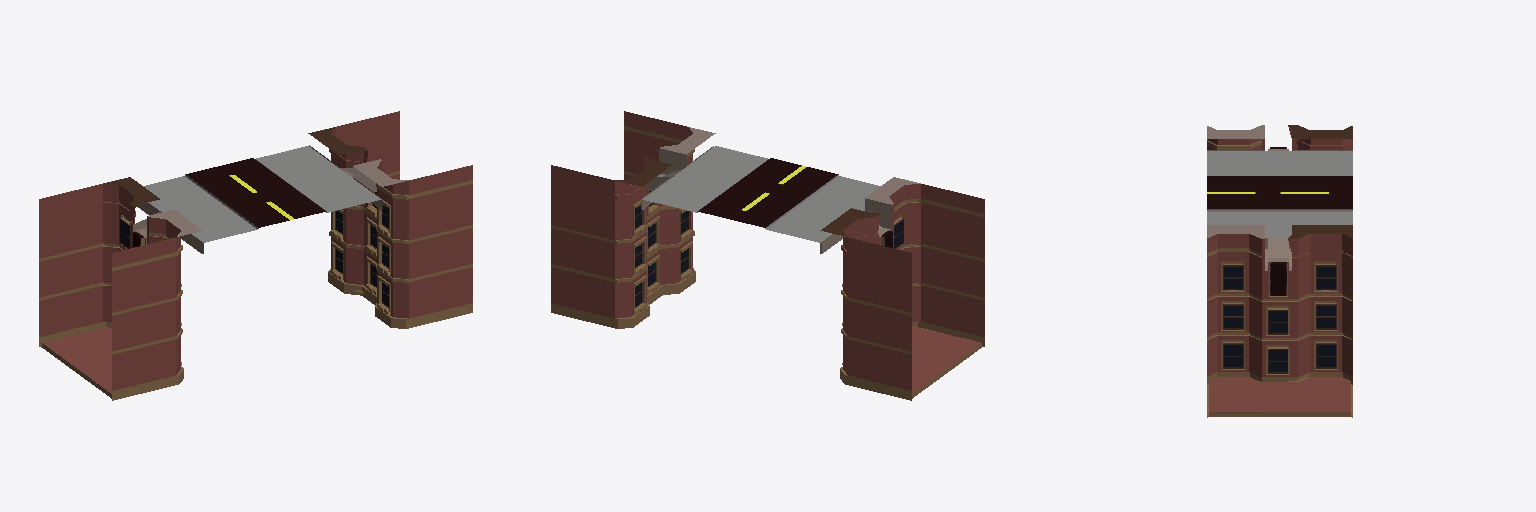
3 views of the same model, side by side, from view 1: azimuth 30°, elevation 25°; view 2: azimuth 150°, elevation 25°; view 3: azimuth 270°, elevation 25° (orthographic).
Visible parts, largest first — view 1: Chunk.001_Plane; view 2: Chunk.001_Plane; view 3: Chunk.001_Plane.
Boxes of the visible parts, <box> form: Chunk.001_Plane: <box>39,111,472,400</box>; Chunk.001_Plane: <box>551,111,984,400</box>; Chunk.001_Plane: <box>1207,125,1352,417</box>.
Size of the model in its own units: 341 by 133 by 120.
Materials: 1 (1 with a texture image).